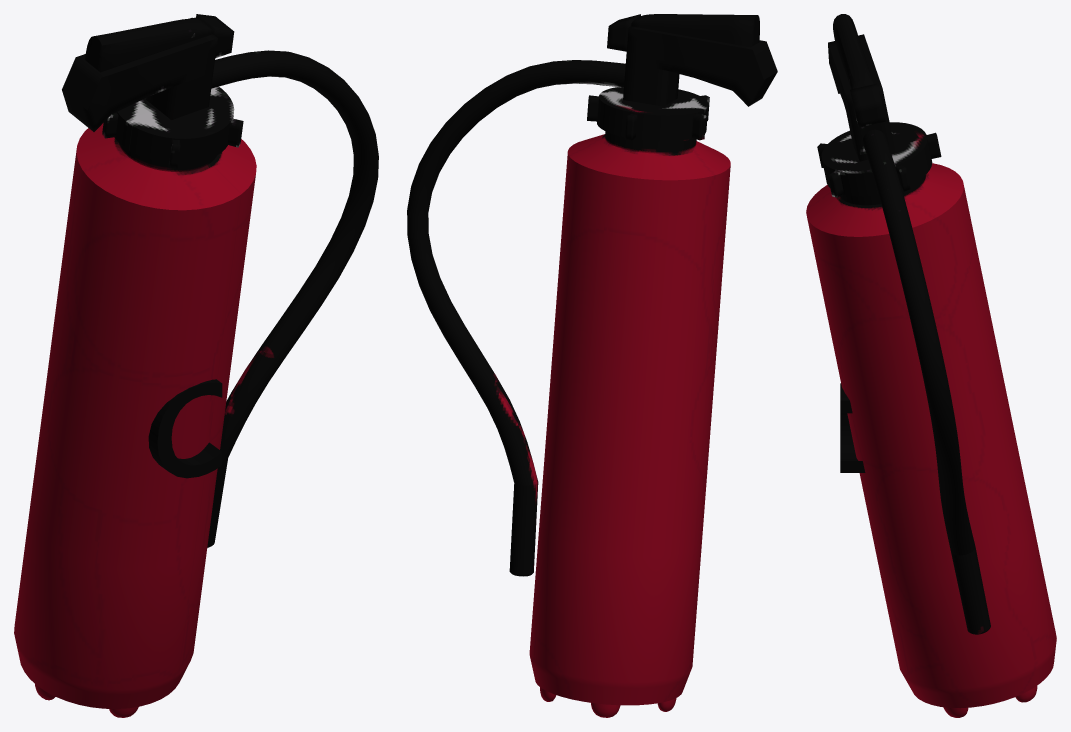
Rendered from classC.fbx.
3 renders of one model, left to right at view 1: azimuth 30°, elevation 25°; view 2: azimuth 150°, elevation 25°; view 3: azimuth 270°, elevation 25°, orthographic. The views are drawn at different scales.
Visible parts, largest first — view 1: node_id4, node_id54; view 2: node_id4; view 3: node_id4, node_id54.
Part boxes in pixels (x1,y1,x2,y2): node_id4: [14, 14, 378, 717]; node_id54: [148, 379, 222, 478]; node_id4: [407, 14, 777, 717]; node_id4: [806, 14, 1056, 717]; node_id54: [840, 383, 865, 472].
Size of the model in its own units: 0.0821 by 0.1623 by 0.0569.
2 materials, 1 textured.
